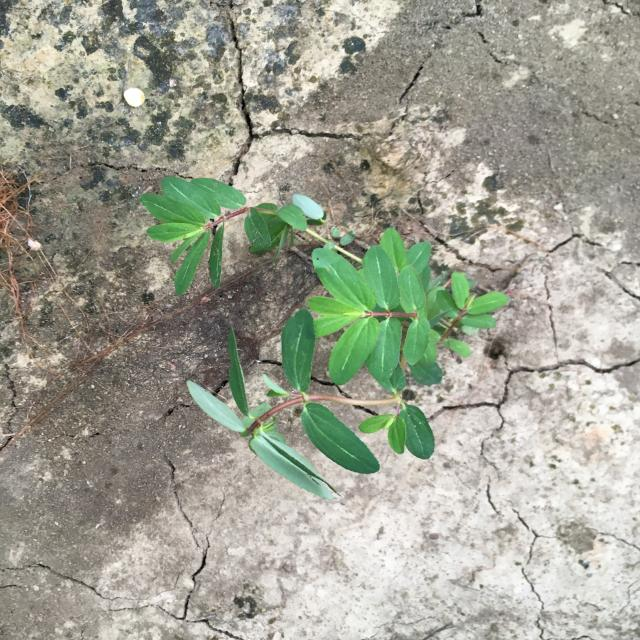SpottedSpurge: (140, 175, 510, 500)
